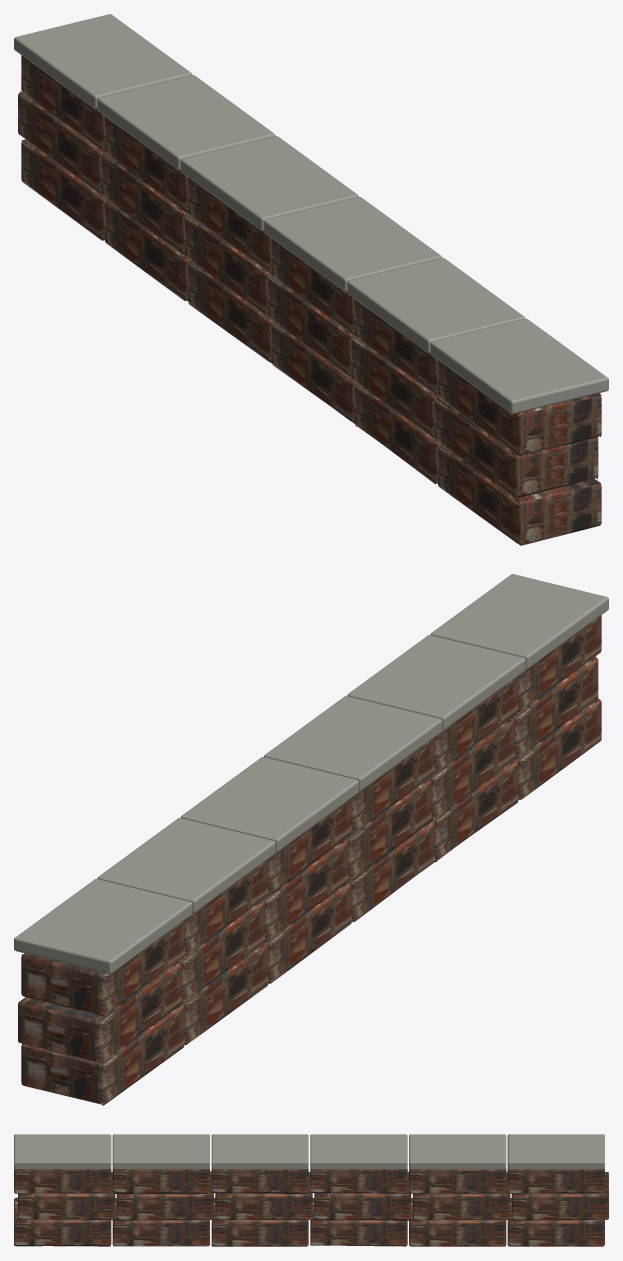
Rendered from masonry-barrier.glb.
3 views of the same model, one above another, from view 1: azimuth 30°, elevation 25°; view 2: azimuth 150°, elevation 25°; view 3: azimuth 270°, elevation 25° (orthographic). The views are drawn at different scales.
Visible parts, largest first — view 1: Masonry weathered brick, Masonry capstone; view 2: Masonry weathered brick, Masonry capstone; view 3: Masonry weathered brick, Masonry capstone.
Part boxes in pixels (x1=…): Masonry weathered brick: x1=18, y1=55, x2=601, y2=545; Masonry capstone: x1=14, y1=14, x2=608, y2=413; Masonry weathered brick: x1=18, y1=615, x2=601, y2=1105; Masonry capstone: x1=14, y1=574, x2=608, y2=973; Masonry weathered brick: x1=14, y1=1168, x2=608, y2=1246; Masonry capstone: x1=14, y1=1134, x2=604, y2=1169.
Size of the model in its own units: 0.68 by 0.9771 by 6.02.
Materials: 2 (1 with a texture image).
